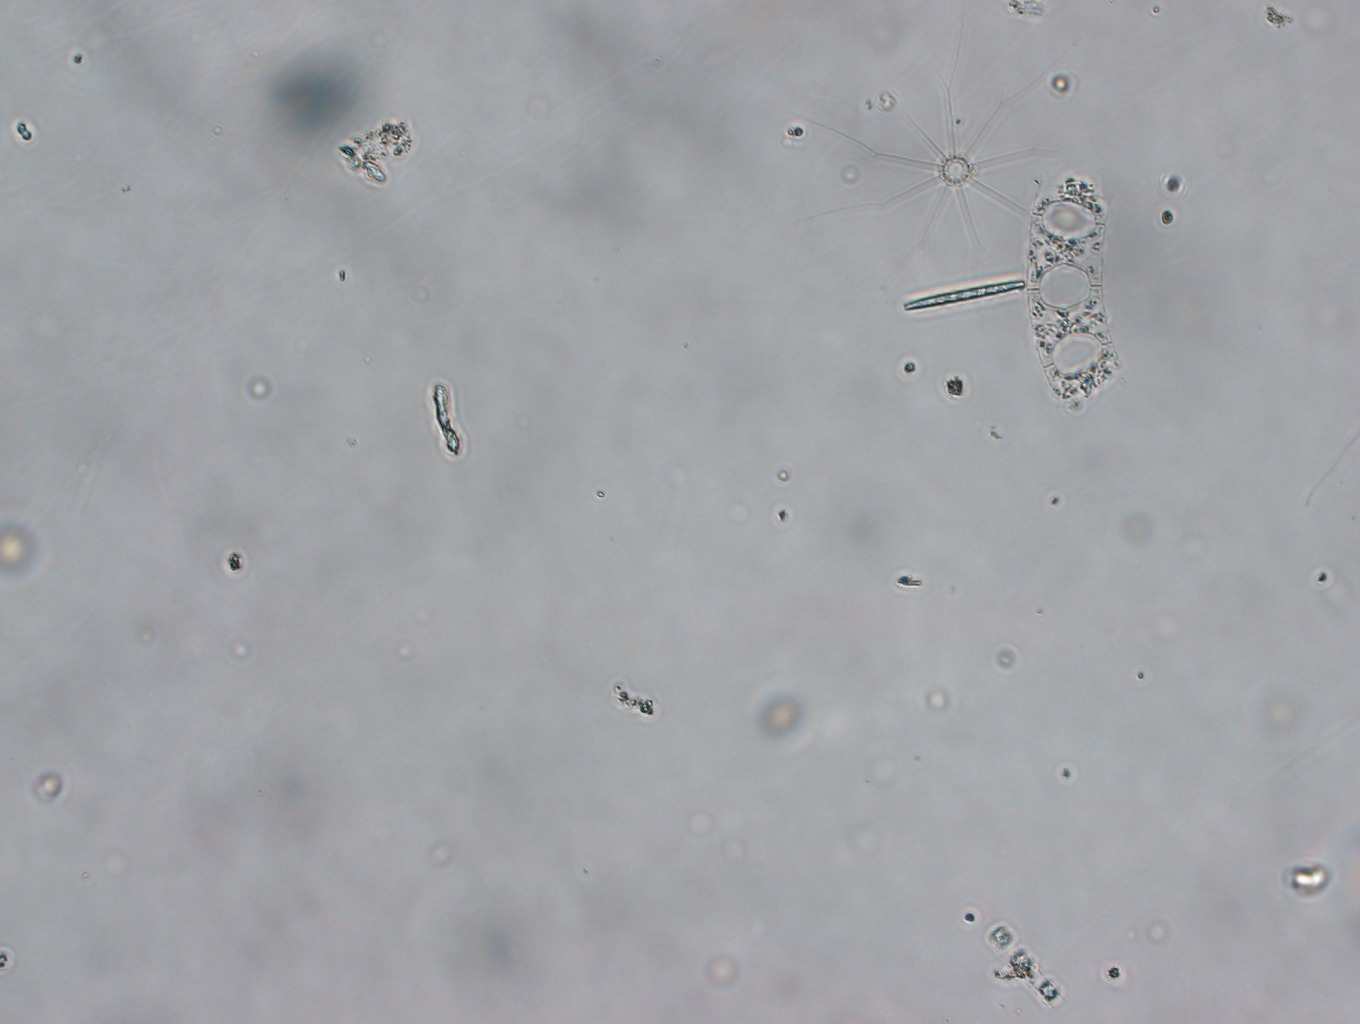bacteriastrum: (814, 53, 1064, 285)
eucampia: (1010, 165, 1141, 412)
skeletonema: (976, 918, 1066, 1010)
